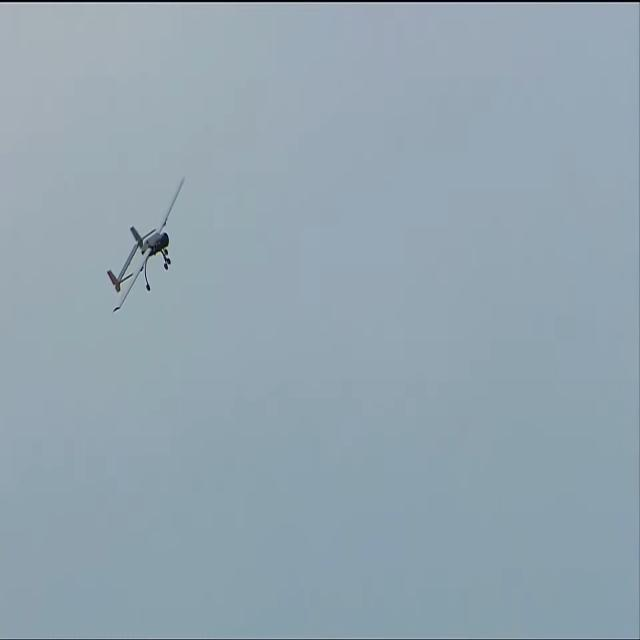iha: (138, 179, 156, 312)
